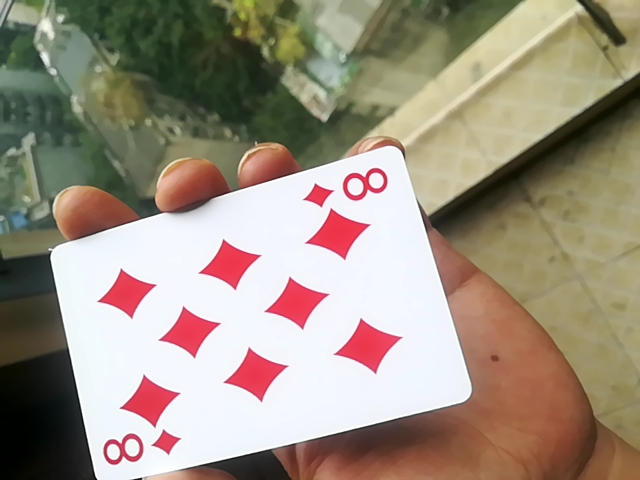fk 8: (44, 144, 468, 479)
